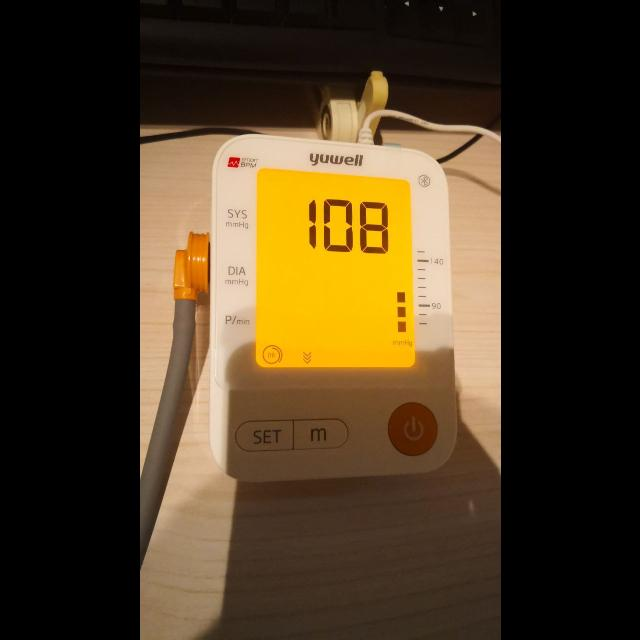Blood-Pressure-Monitor: (210, 133, 458, 481)
